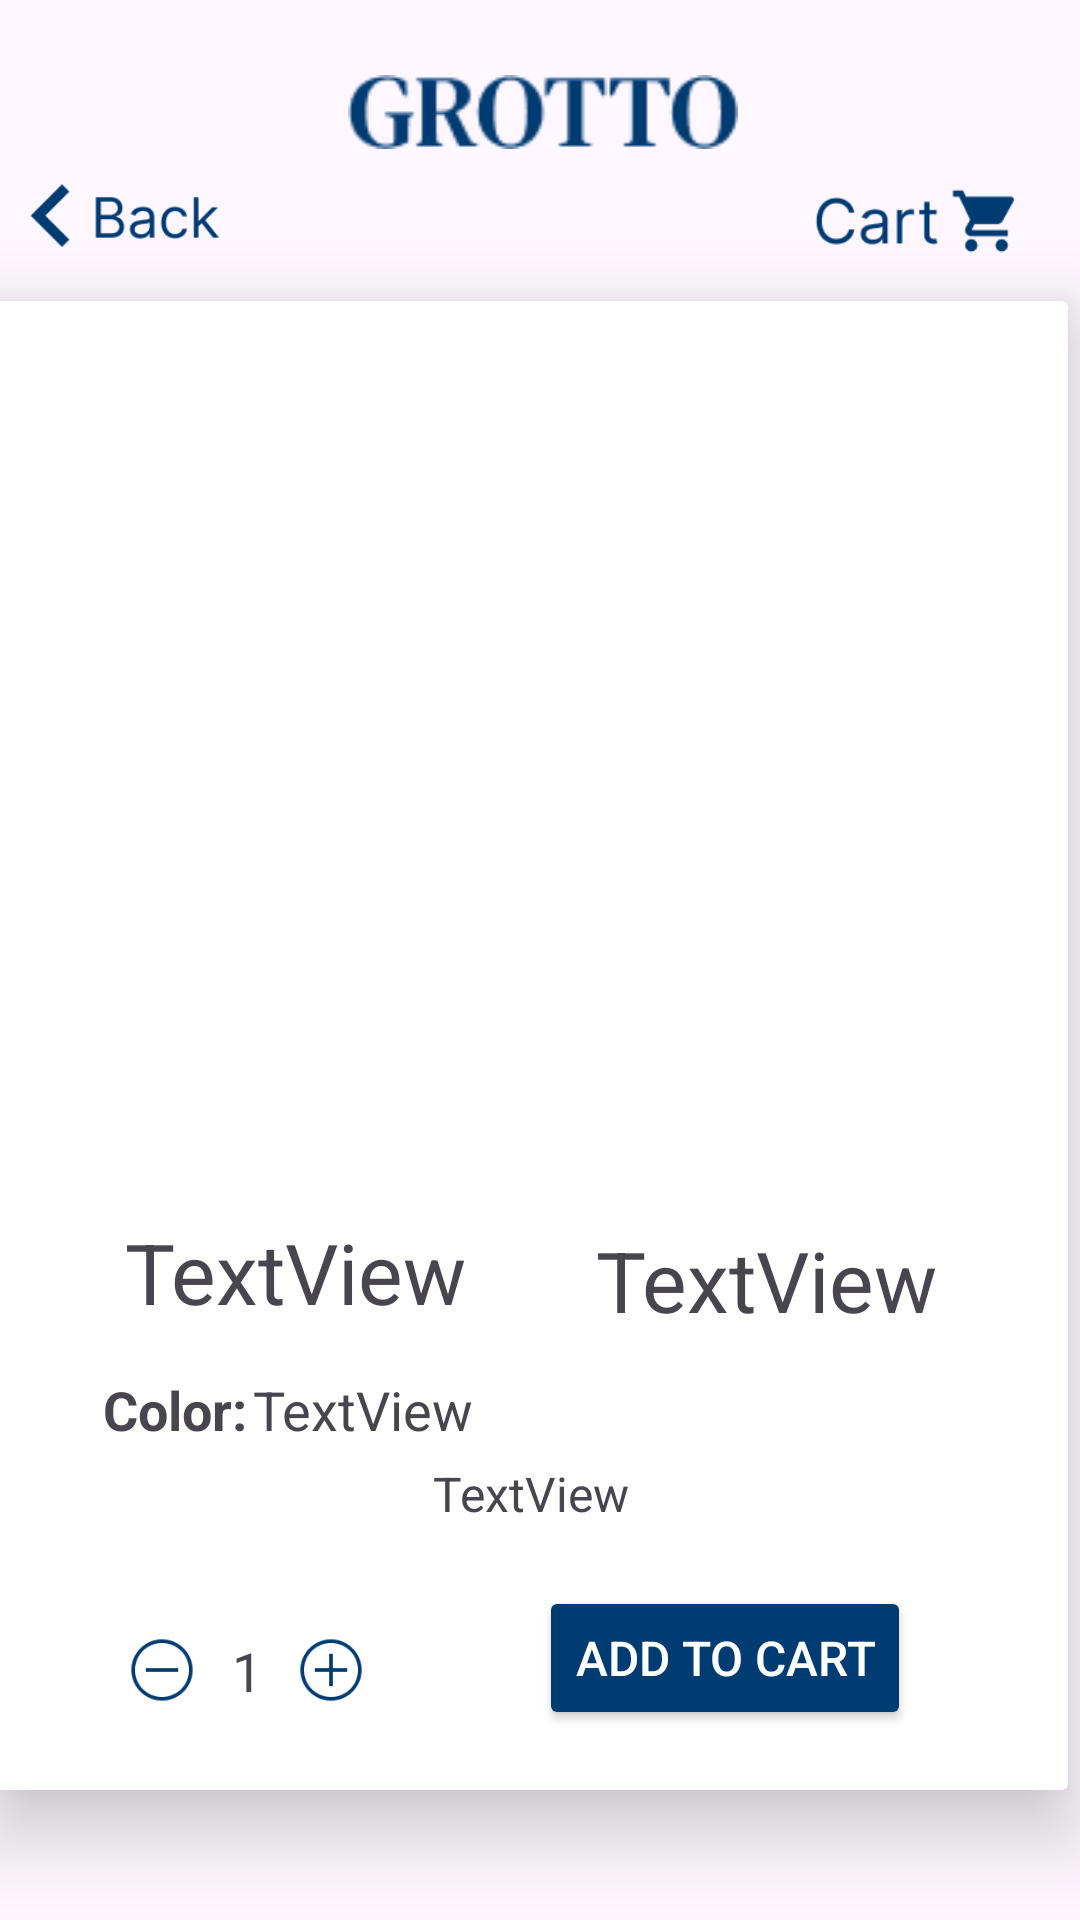

Icon bounding boxes for this 1080x1920 phone screenshot, format bbox=(x1, y1, x2, y2):
minus button: bbox=(131, 1639, 193, 1701)
plus button: bbox=(300, 1639, 362, 1701)
